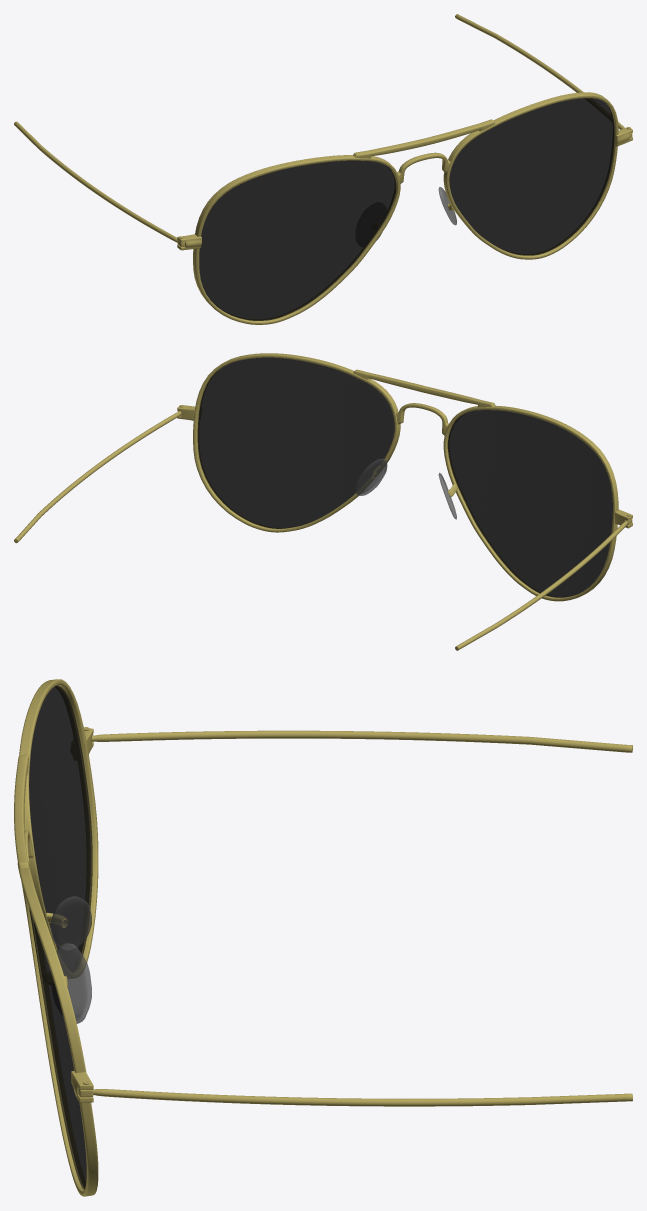
File: aviator_app.glb
3 views of the same model, one above another, from view 1: azimuth 30°, elevation 25°; view 2: azimuth 150°, elevation 25°; view 3: azimuth 270°, elevation 25° (orthographic). The views are drawn at different scales.
Visible parts, largest first — view 1: lentes, armacao; view 2: lentes, armacao, ponte; view 3: armacao, lentes, ponte.
Part boxes in pixels (<box>): lentes: <box>199,98,614,320</box>; armacao: <box>14,14,632,324</box>; lentes: <box>197,357,612,597</box>; armacao: <box>14,353,632,650</box>; ponte: <box>355,458,456,519</box>; armacao: <box>14,679,632,1196</box>; lentes: <box>29,685,92,1189</box>; ponte: <box>50,896,91,1023</box>.
Bounding box in the file's own units: 0.1601 × 0.055 × 0.113.
3 materials, 2 textured.
